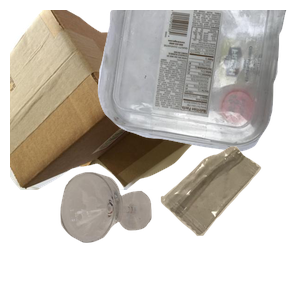cardboard: (10, 10, 206, 190)
glass: (58, 170, 202, 300)
plastic: (95, 10, 300, 154)
trash: (158, 144, 300, 300)
